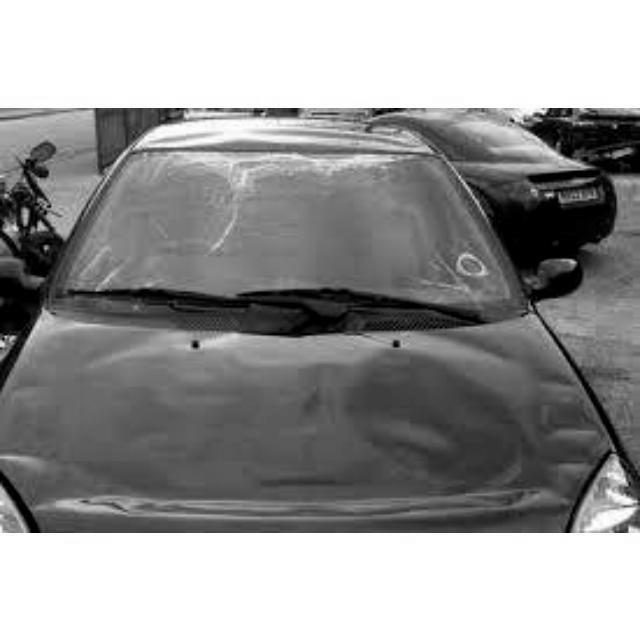Front-windscreen-damage: (43, 136, 568, 319)
bonnet-dent: (12, 310, 598, 531)
